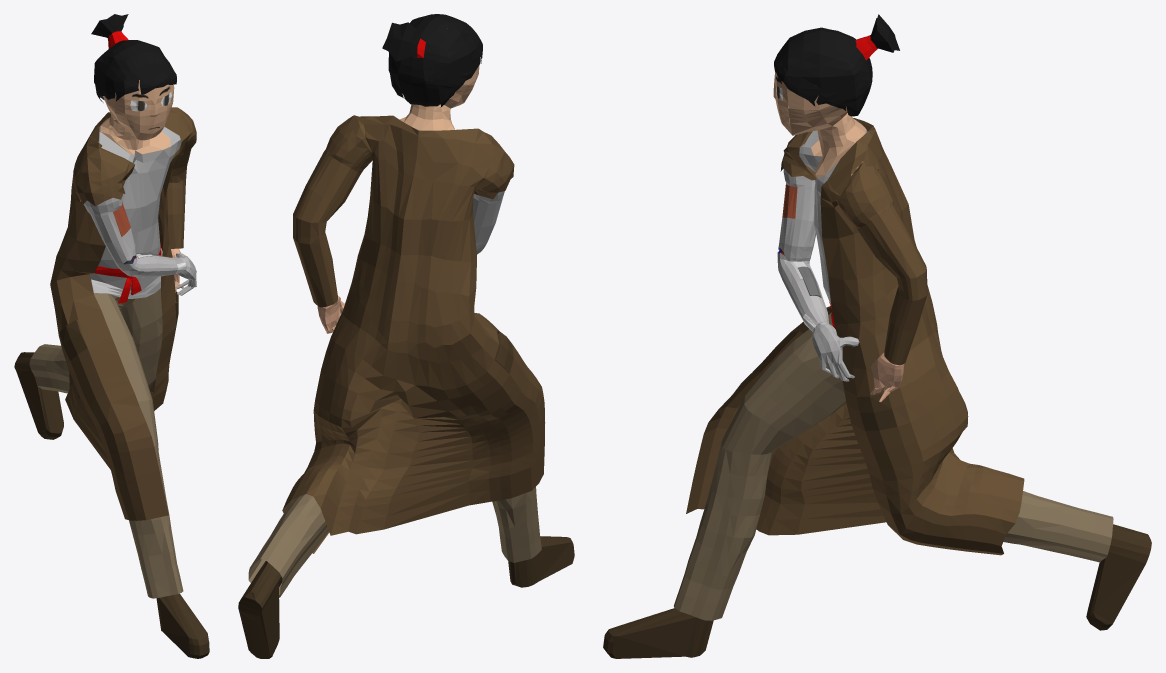
File: One_RF_000002.obj
The picture shows the model from 3 angles, left to right: view 1: azimuth 30°, elevation 25°; view 2: azimuth 150°, elevation 25°; view 3: azimuth 270°, elevation 25°; orthographic projection. The views are drawn at different scales.
Visible parts, largest first — view 1: Hair_Cube.004; view 2: Hair_Cube.004; view 3: Hair_Cube.004.
Boxes of the visible parts, box(x1,y1,x2,y2) form: Hair_Cube.004: box(14, 14, 209, 658); Hair_Cube.004: box(238, 14, 574, 658); Hair_Cube.004: box(603, 14, 1151, 658).
Size of the model in its own units: 1.09 by 3.71 by 2.83.
